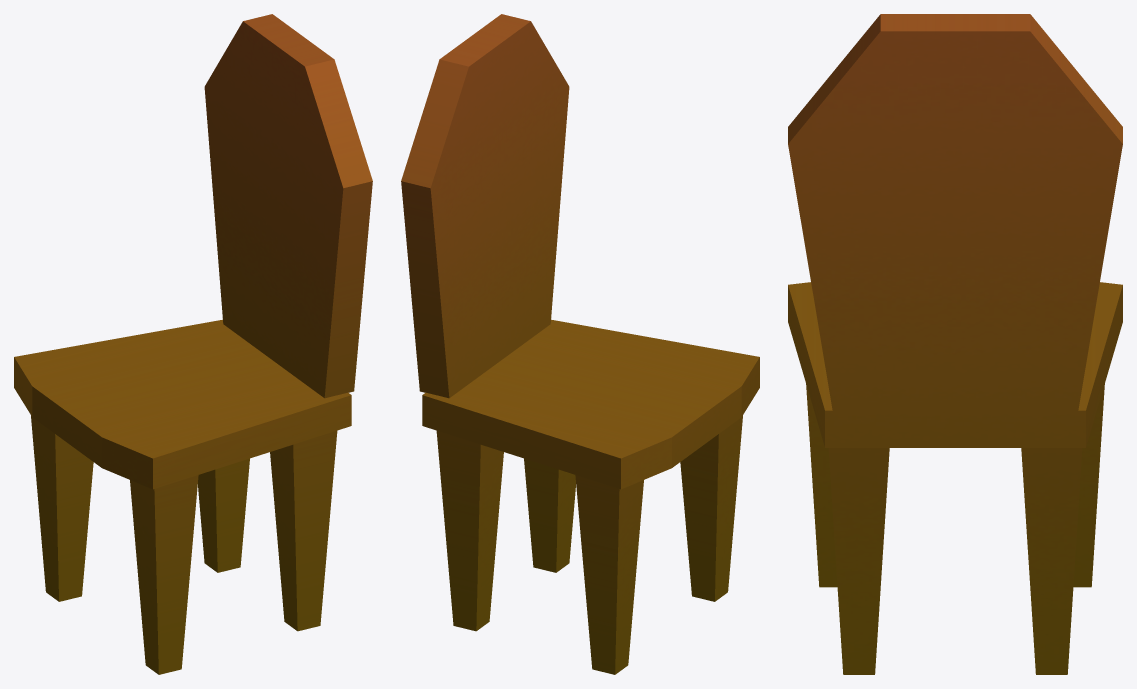
The model's file is Chair.fbx.
3 renders of one model, left to right at view 1: azimuth 30°, elevation 25°; view 2: azimuth 150°, elevation 25°; view 3: azimuth 270°, elevation 25°, orthographic. The views are drawn at different scales.
Visible parts, largest first — view 1: Chair; view 2: Chair; view 3: Chair.
Part boxes in pixels (bbox=[...]): Chair: bbox=[14, 14, 372, 674]; Chair: bbox=[401, 14, 759, 674]; Chair: bbox=[788, 14, 1122, 674].
Size of the model in its own units: 0.4448 by 0.9852 by 0.4524.
